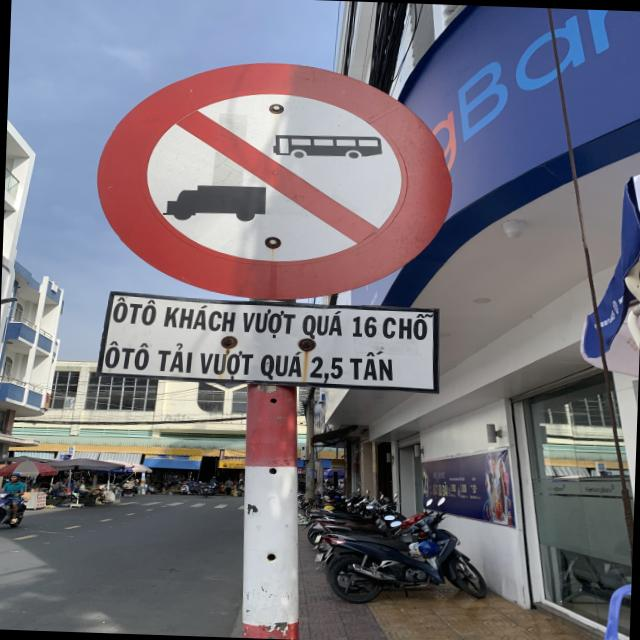Cam_XeTai_XeKhach: (92, 54, 458, 304)
